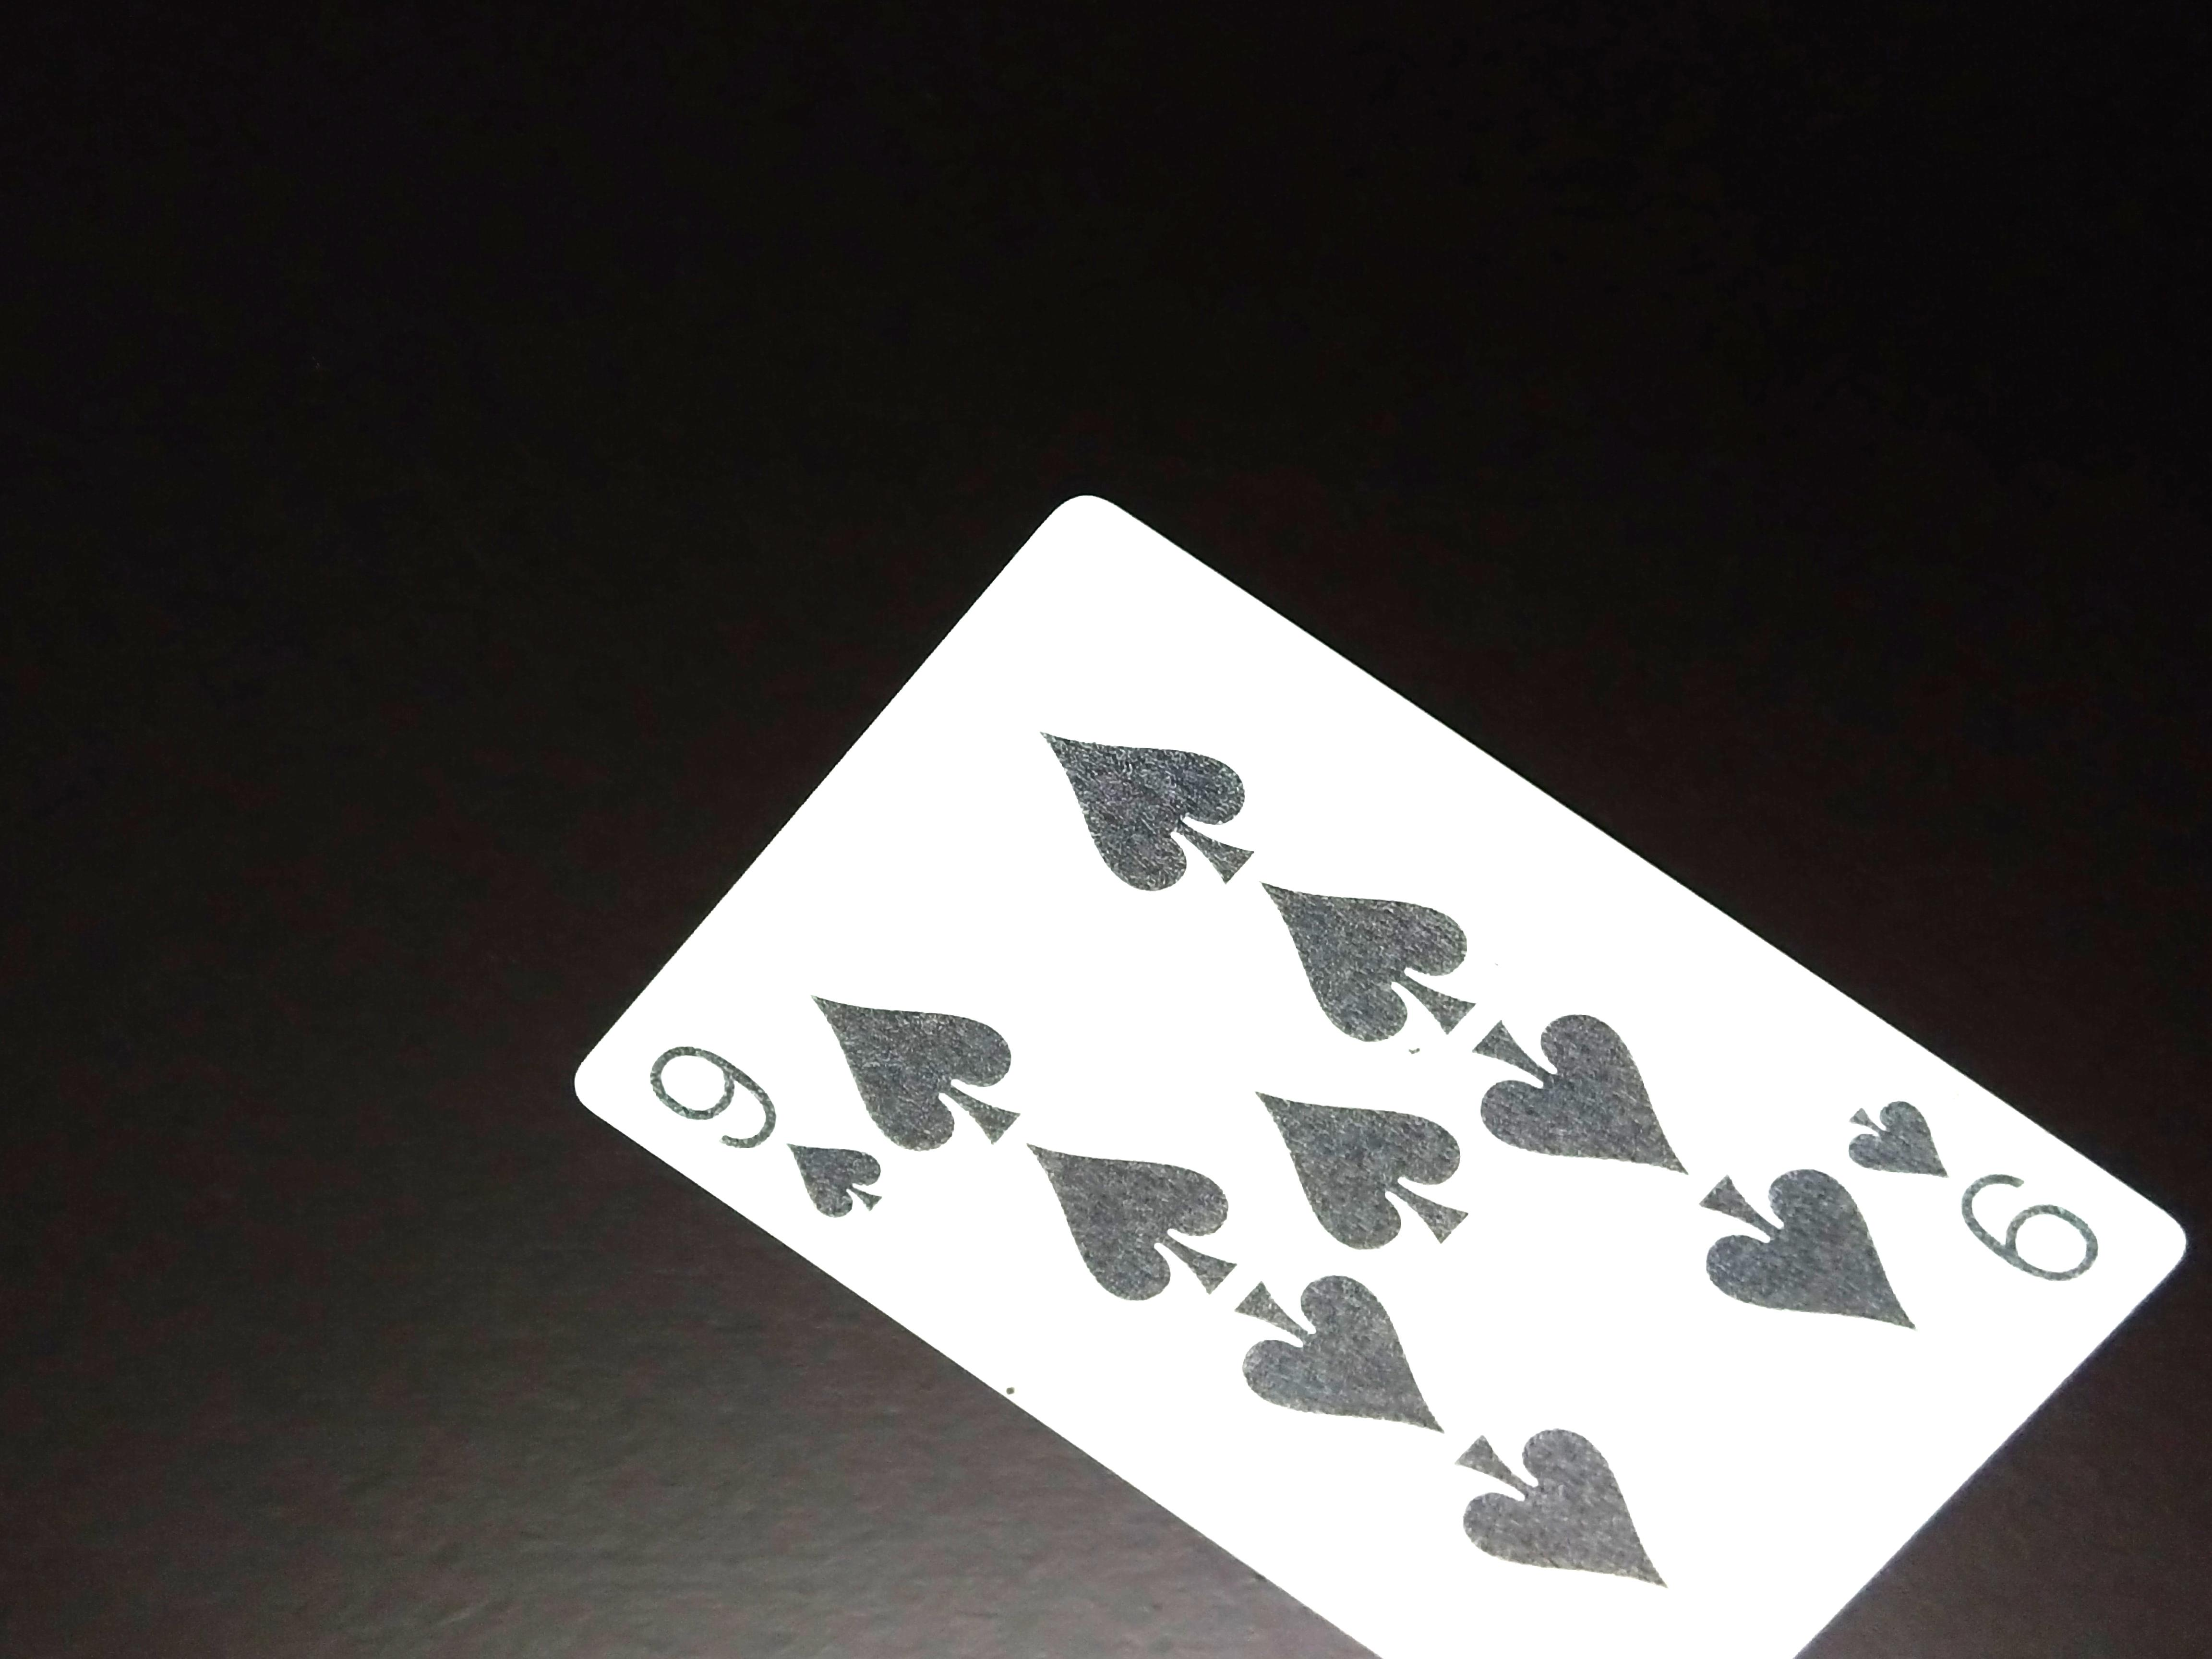9S: (637, 1023, 914, 1234)
